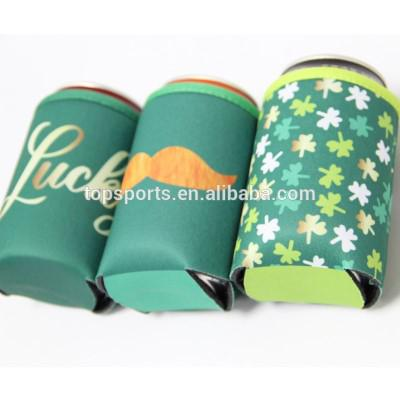beer: (1, 56, 396, 313)
